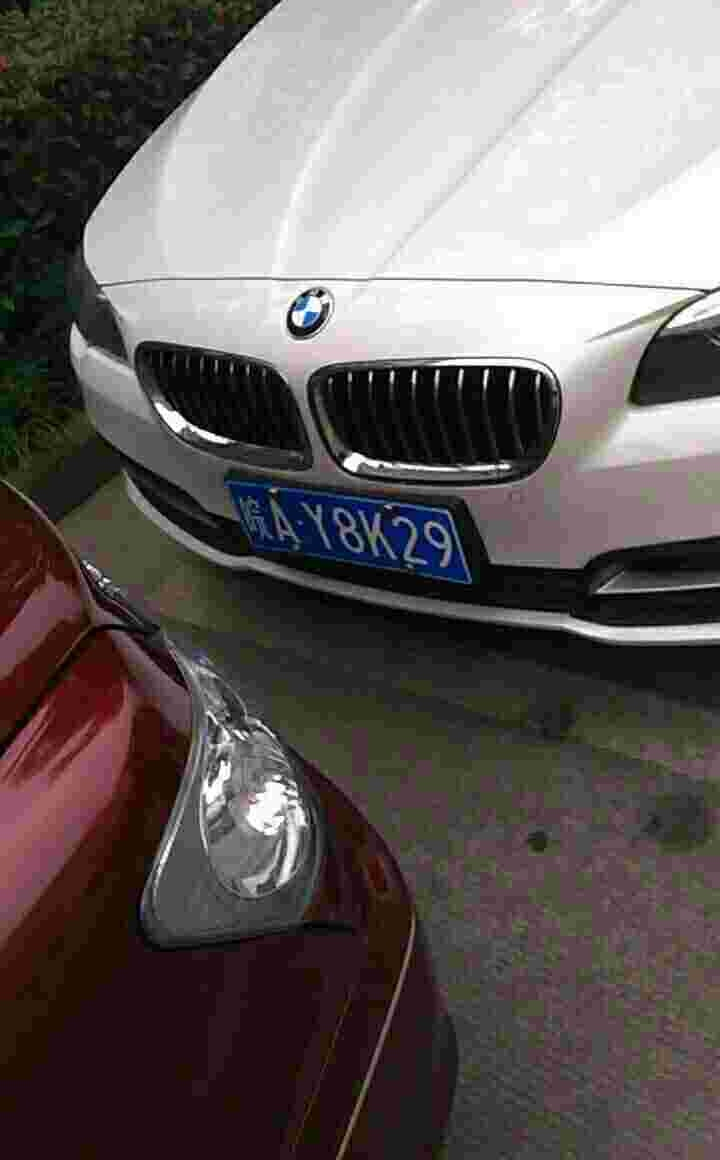license_plate: (229, 482, 470, 584)
